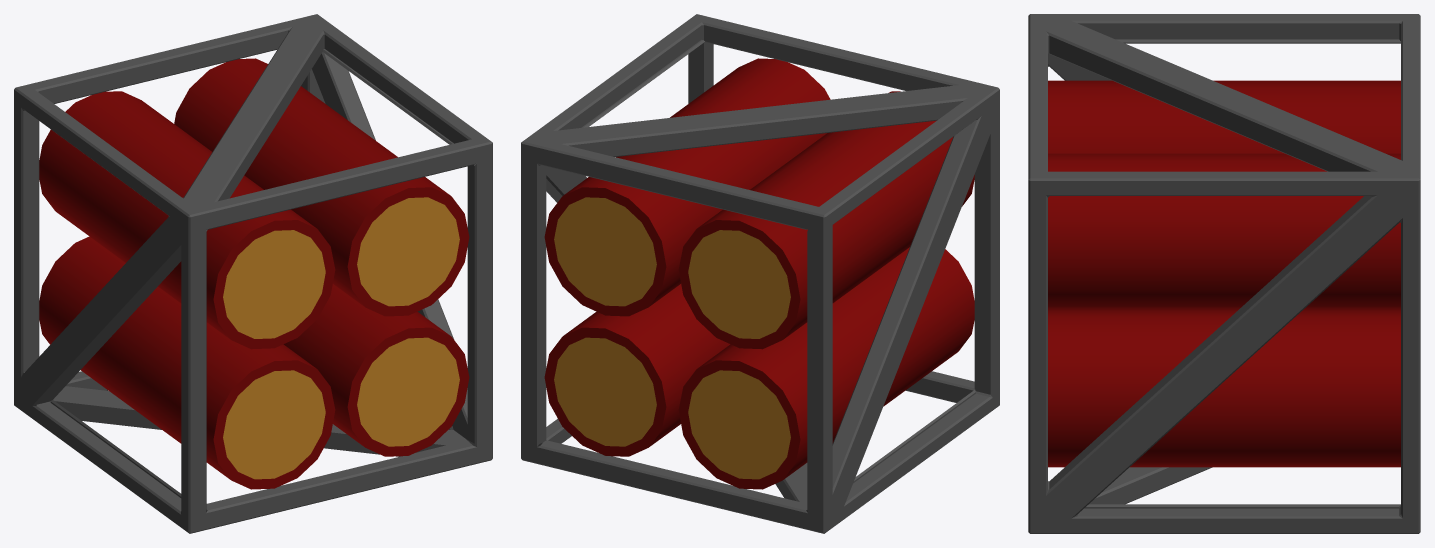
Rendered from Wires.fbx.
3 views of the same model, side by side, from view 1: azimuth 30°, elevation 25°; view 2: azimuth 150°, elevation 25°; view 3: azimuth 270°, elevation 25° (orthographic). The views are drawn at different scales.
Parts seen in each view (by area): view 1: Frame, Cable1, Cable4, Cable2, Cable3; view 2: Frame, Cable1, Cable4, Cable2, Cable3; view 3: Frame, Cable3, Cable2, Cable1.
Part boxes in pixels (bbox=[...]): Frame: bbox=[14, 14, 492, 533]; Cable1: bbox=[39, 91, 335, 349]; Cable4: bbox=[39, 236, 335, 489]; Cable2: bbox=[174, 58, 469, 316]; Cable3: bbox=[283, 284, 469, 456]; Frame: bbox=[521, 14, 999, 533]; Cable1: bbox=[678, 91, 974, 349]; Cable4: bbox=[678, 247, 974, 489]; Cable2: bbox=[544, 58, 830, 316]; Cable3: bbox=[544, 284, 730, 456]; Frame: bbox=[1028, 14, 1420, 533]; Cable3: bbox=[1048, 310, 1400, 467]; Cable2: bbox=[1048, 153, 1400, 310]; Cable1: bbox=[1048, 80, 1400, 153].
Bounding box in the file's own units: 50 × 50 × 50.
